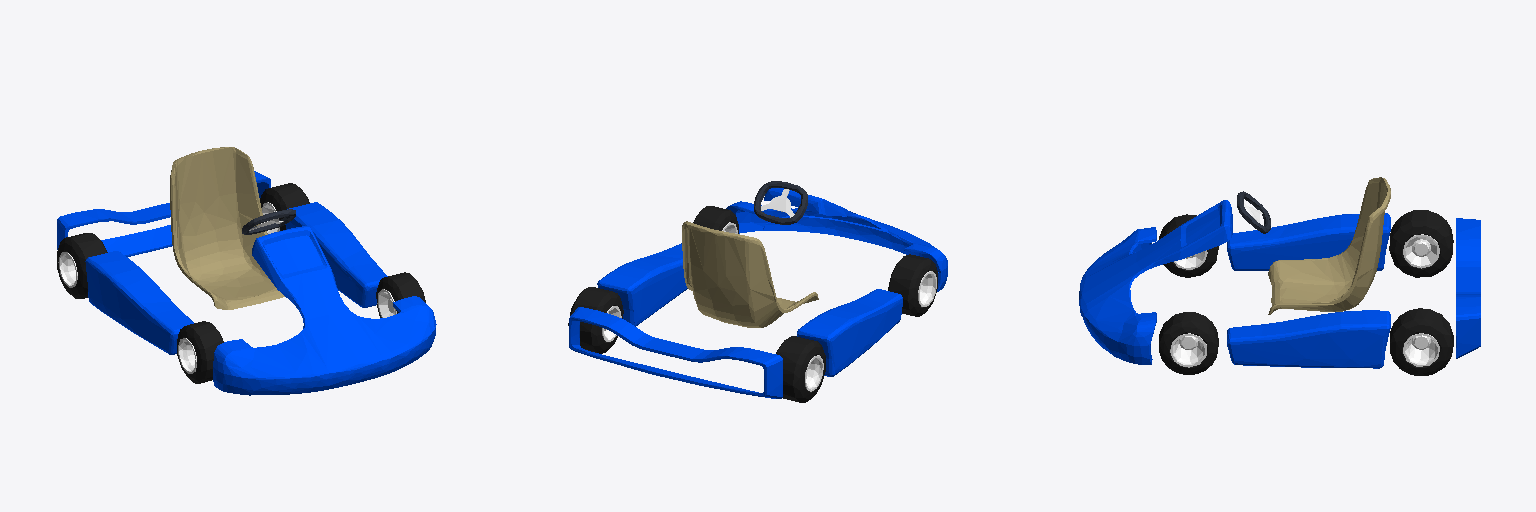
Rendered from levs-kart-lowpoly.obj.
3 renders of one model, left to right at view 1: azimuth 30°, elevation 25°; view 2: azimuth 150°, elevation 25°; view 3: azimuth 270°, elevation 25°, orthographic.
Visible parts, largest first — view 1: Torus01; view 2: Torus01; view 3: Torus01.
Boxes of the visible parts, <box> form: Torus01: <box>57,147,436,395</box>; Torus01: <box>568,181,947,402</box>; Torus01: <box>1079,177,1480,375</box>.
Bounding box in the file's own units: 4.13 × 2.22 × 6.12.